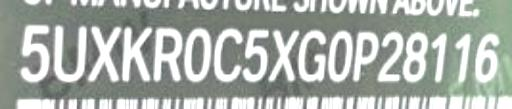letter: (84, 22, 122, 83), (51, 22, 87, 85), (17, 20, 51, 85), (119, 22, 153, 85), (151, 22, 183, 85), (211, 26, 245, 83), (266, 26, 300, 83), (240, 26, 272, 85), (297, 28, 329, 85), (182, 24, 212, 83), (401, 30, 431, 83), (326, 28, 354, 83), (351, 28, 379, 81), (376, 29, 404, 82), (474, 32, 502, 83), (450, 32, 472, 85), (428, 30, 448, 85)
